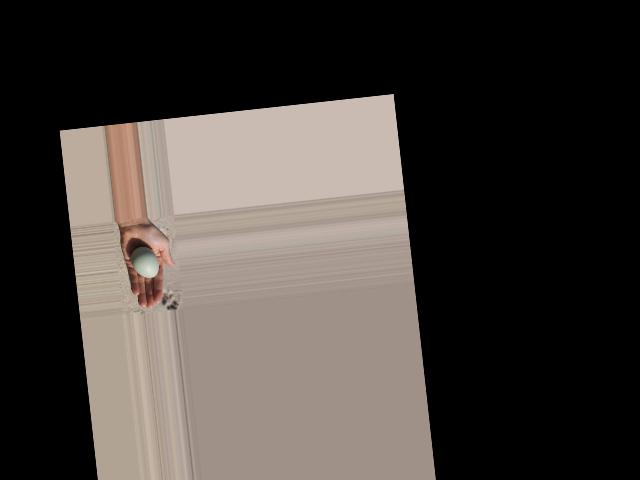egg: (129, 246, 159, 280)
